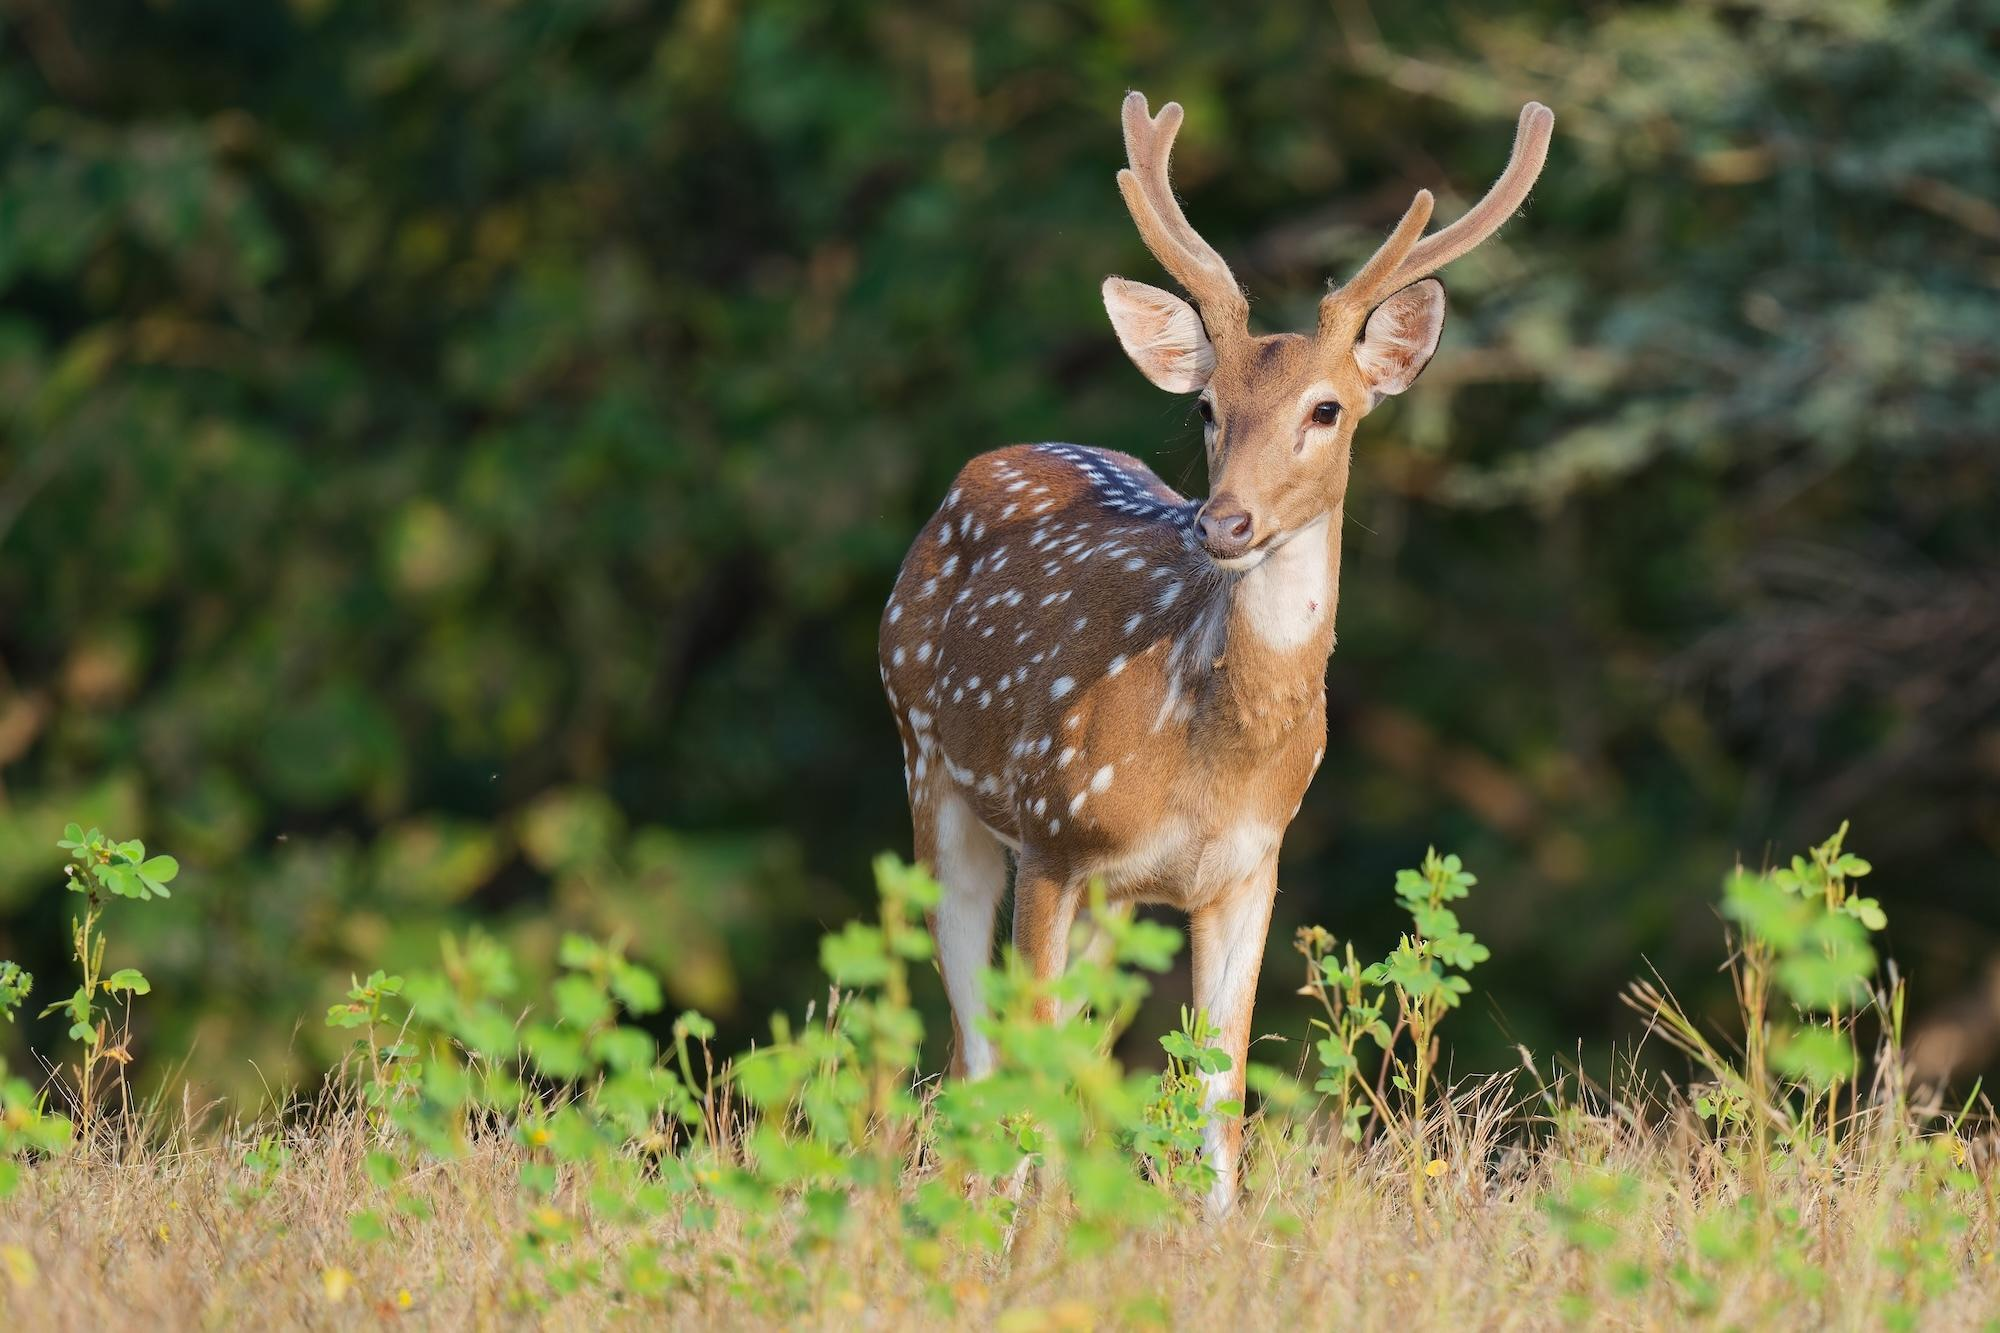Deer: (879, 92, 1554, 1105)
